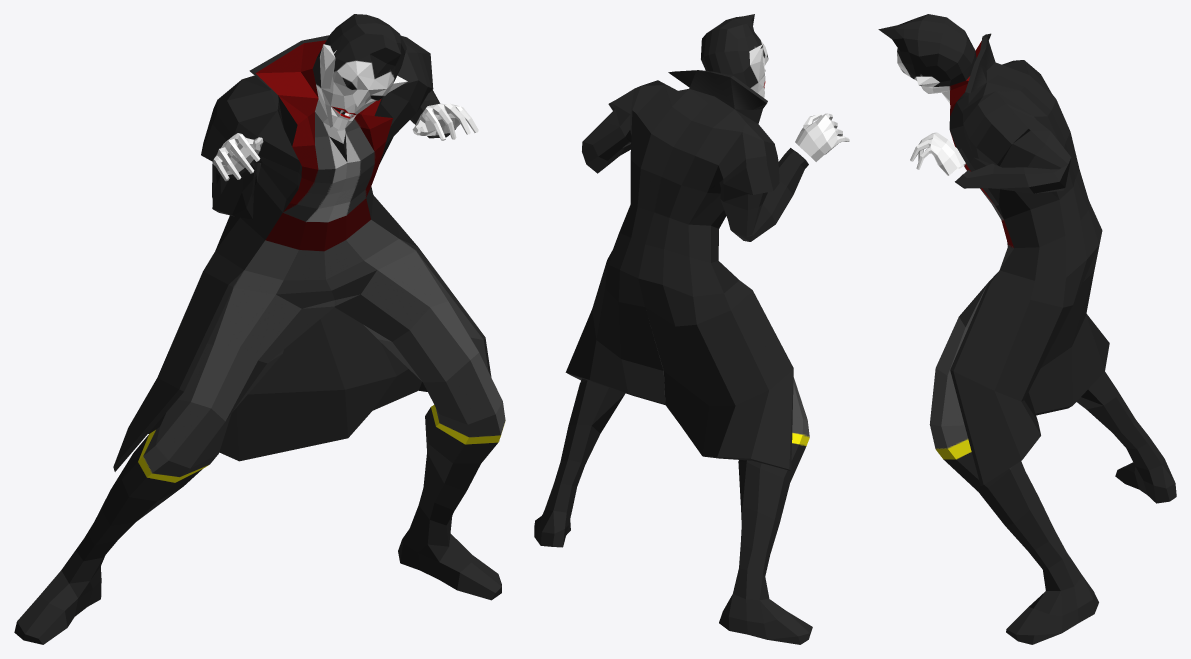
Rendered from VampireAttack(76).obj.
3 renders of one model, left to right at view 1: azimuth 30°, elevation 25°; view 2: azimuth 150°, elevation 25°; view 3: azimuth 270°, elevation 25°, orthographic. The views are drawn at different scales.
Visible parts, largest first — view 1: Plane002; view 2: Plane002; view 3: Plane002.
Part boxes in pixels (x1=…): Plane002: x1=14, y1=14, x2=505, y2=644; Plane002: x1=534, y1=14, x2=849, y2=644; Plane002: x1=878, y1=14, x2=1176, y2=644.
Bounding box in the file's own units: 189 × 284 × 141.
